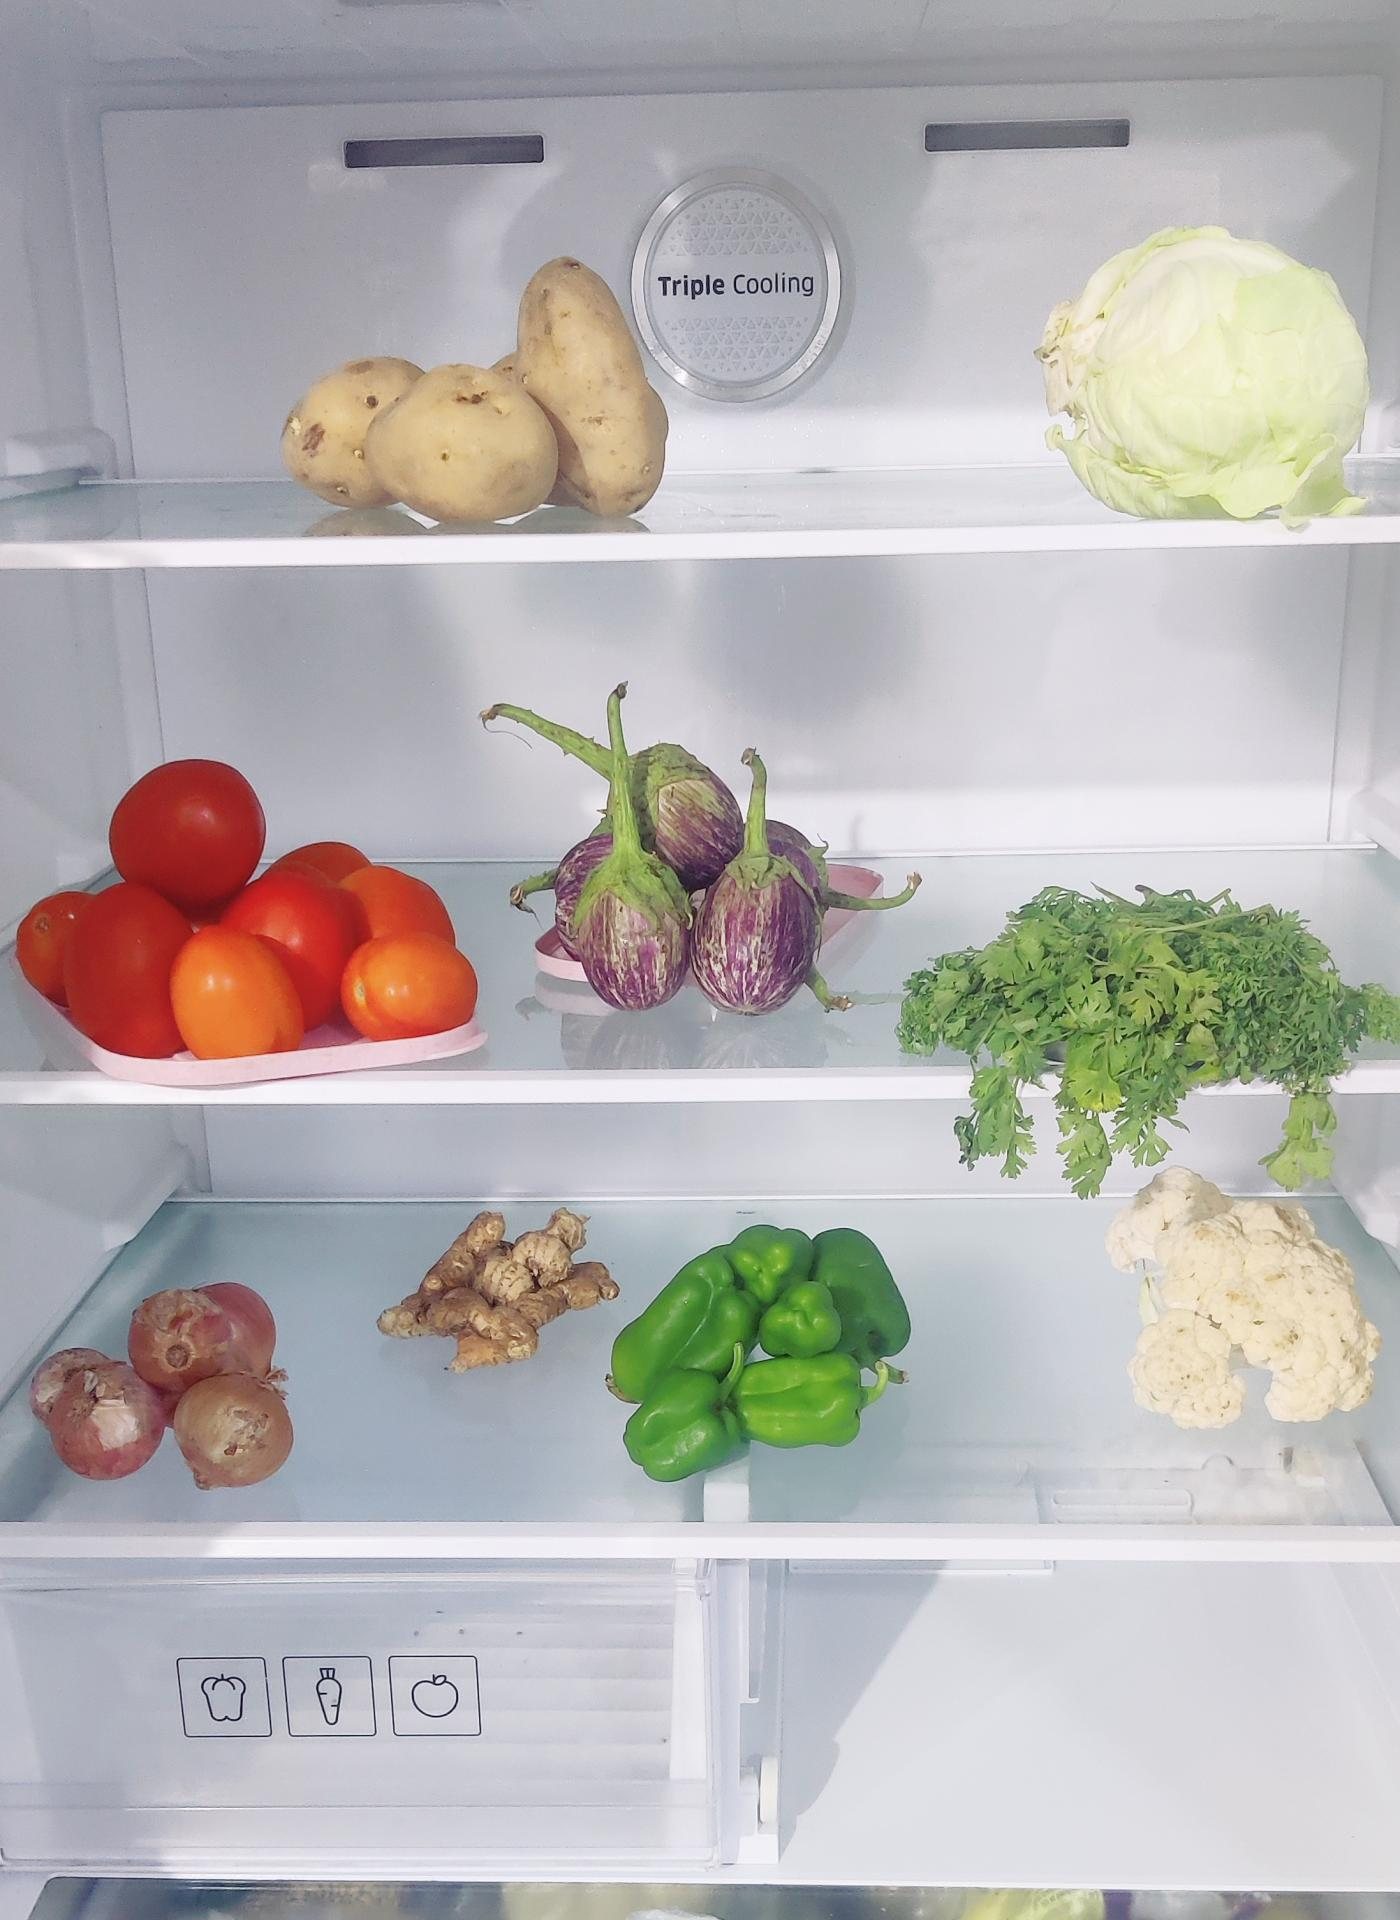brinjal: (513, 671, 862, 1009)
cabbage: (1042, 239, 1376, 514)
capsicum: (628, 1209, 904, 1468)
coriander: (939, 874, 1358, 1143)
ginger: (404, 1209, 626, 1373)
onion: (289, 252, 666, 510), (46, 1280, 297, 1488)
tomato: (27, 750, 462, 1052)
